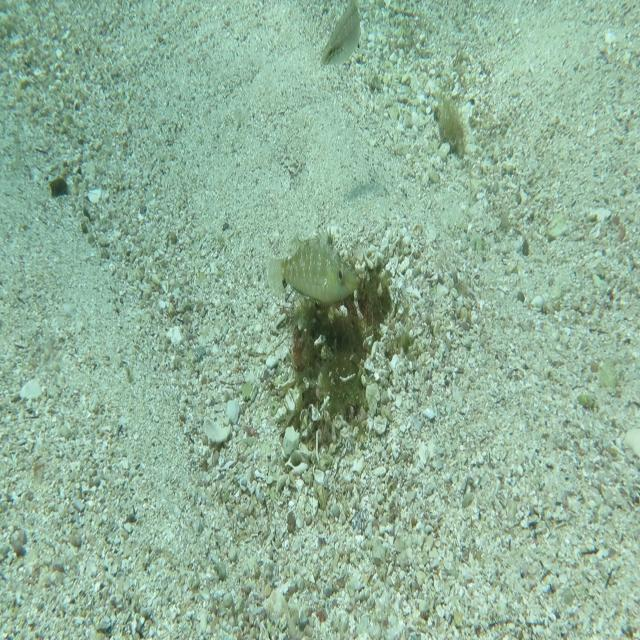FAN: (267, 224, 360, 305)
core_nest: (344, 285, 384, 324)
female: (320, 0, 361, 70)
nest: (280, 243, 410, 455)
vegetation: (436, 96, 470, 167), (47, 175, 68, 199)
